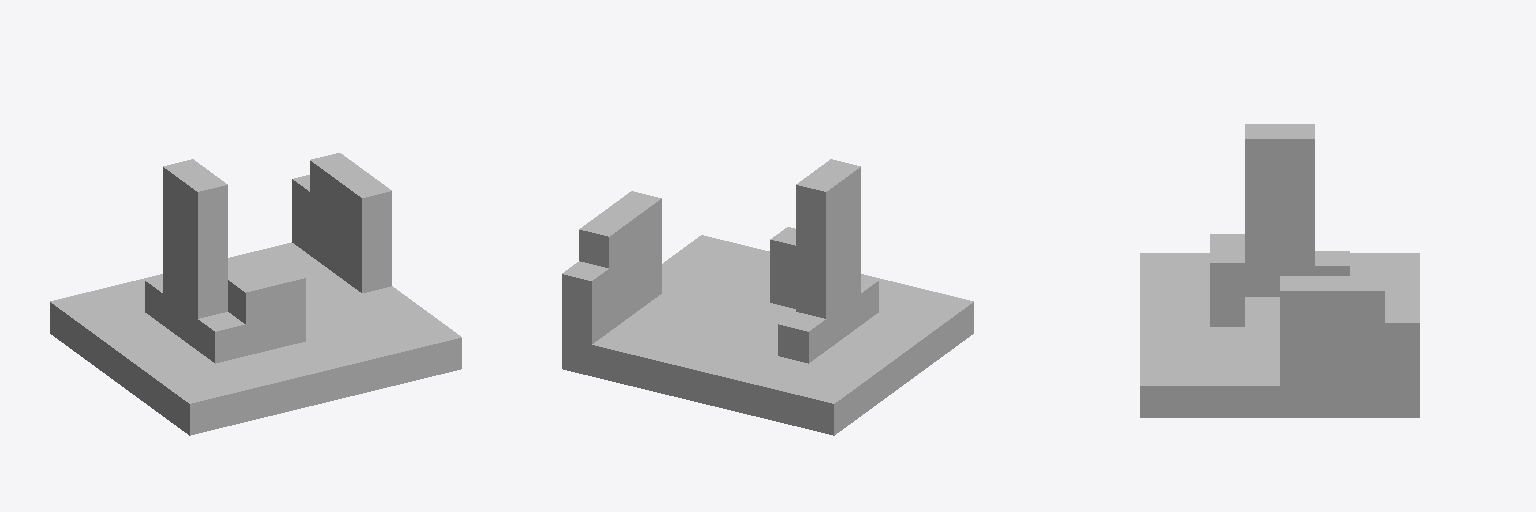
Rendered from shadows.obj.
3 renders of one model, left to right at view 1: azimuth 30°, elevation 25°; view 2: azimuth 150°, elevation 25°; view 3: azimuth 270°, elevation 25°, orthographic.
Size of the model in its own units: 9 by 6 by 8.